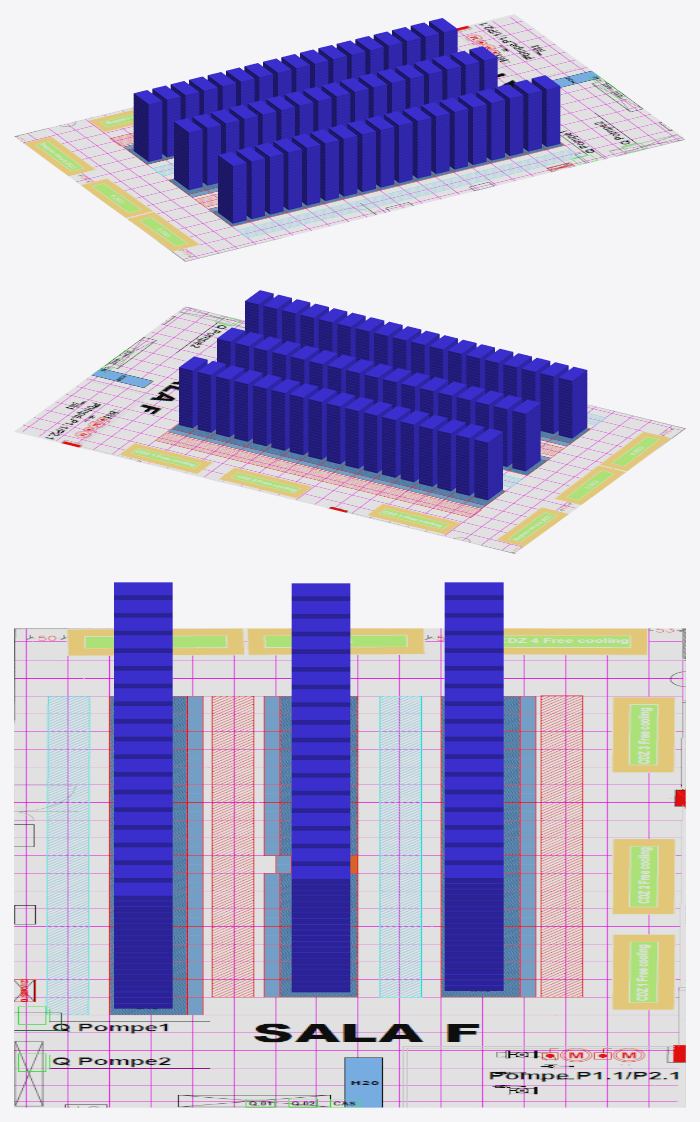
The model's file is room_f.gltf.
The picture shows the model from 3 angles, top to bottom: view 1: azimuth 30°, elevation 25°; view 2: azimuth 150°, elevation 25°; view 3: azimuth 270°, elevation 25°; orthographic projection. The views are drawn at different scales.
Visible parts, largest first — view 1: Plane; view 2: Plane; view 3: Plane, chassis (×52).
Boxes of the visible parts, x1,y1,x2,y2 form: Plane: (14, 14, 685, 261); Plane: (14, 306, 685, 553); Plane: (14, 628, 685, 1107); chassis (×52): (114, 582, 503, 900).
Size of the model in its own units: 16.28 by 1.84 by 9.65.
Materials: 2 (1 with a texture image).
